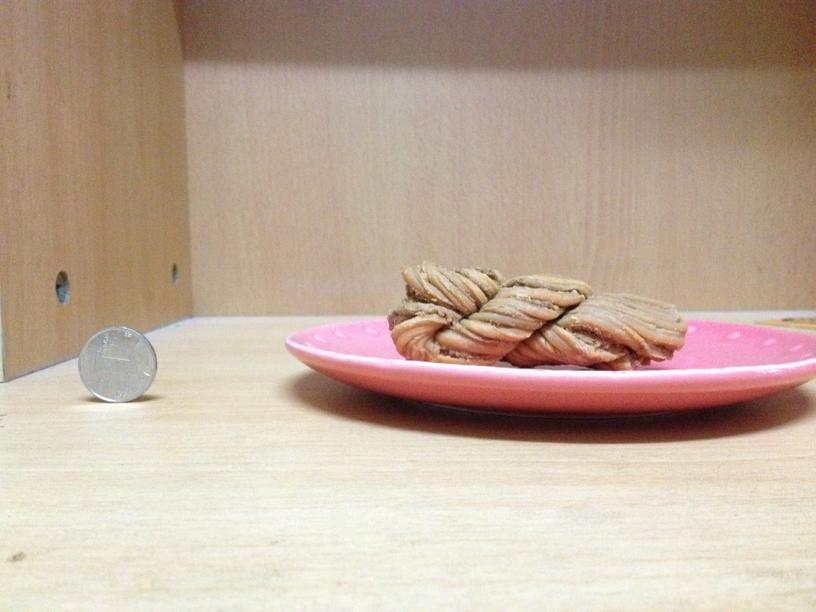coin: (75, 324, 155, 402)
fired_dough_twist: (383, 261, 686, 367)
